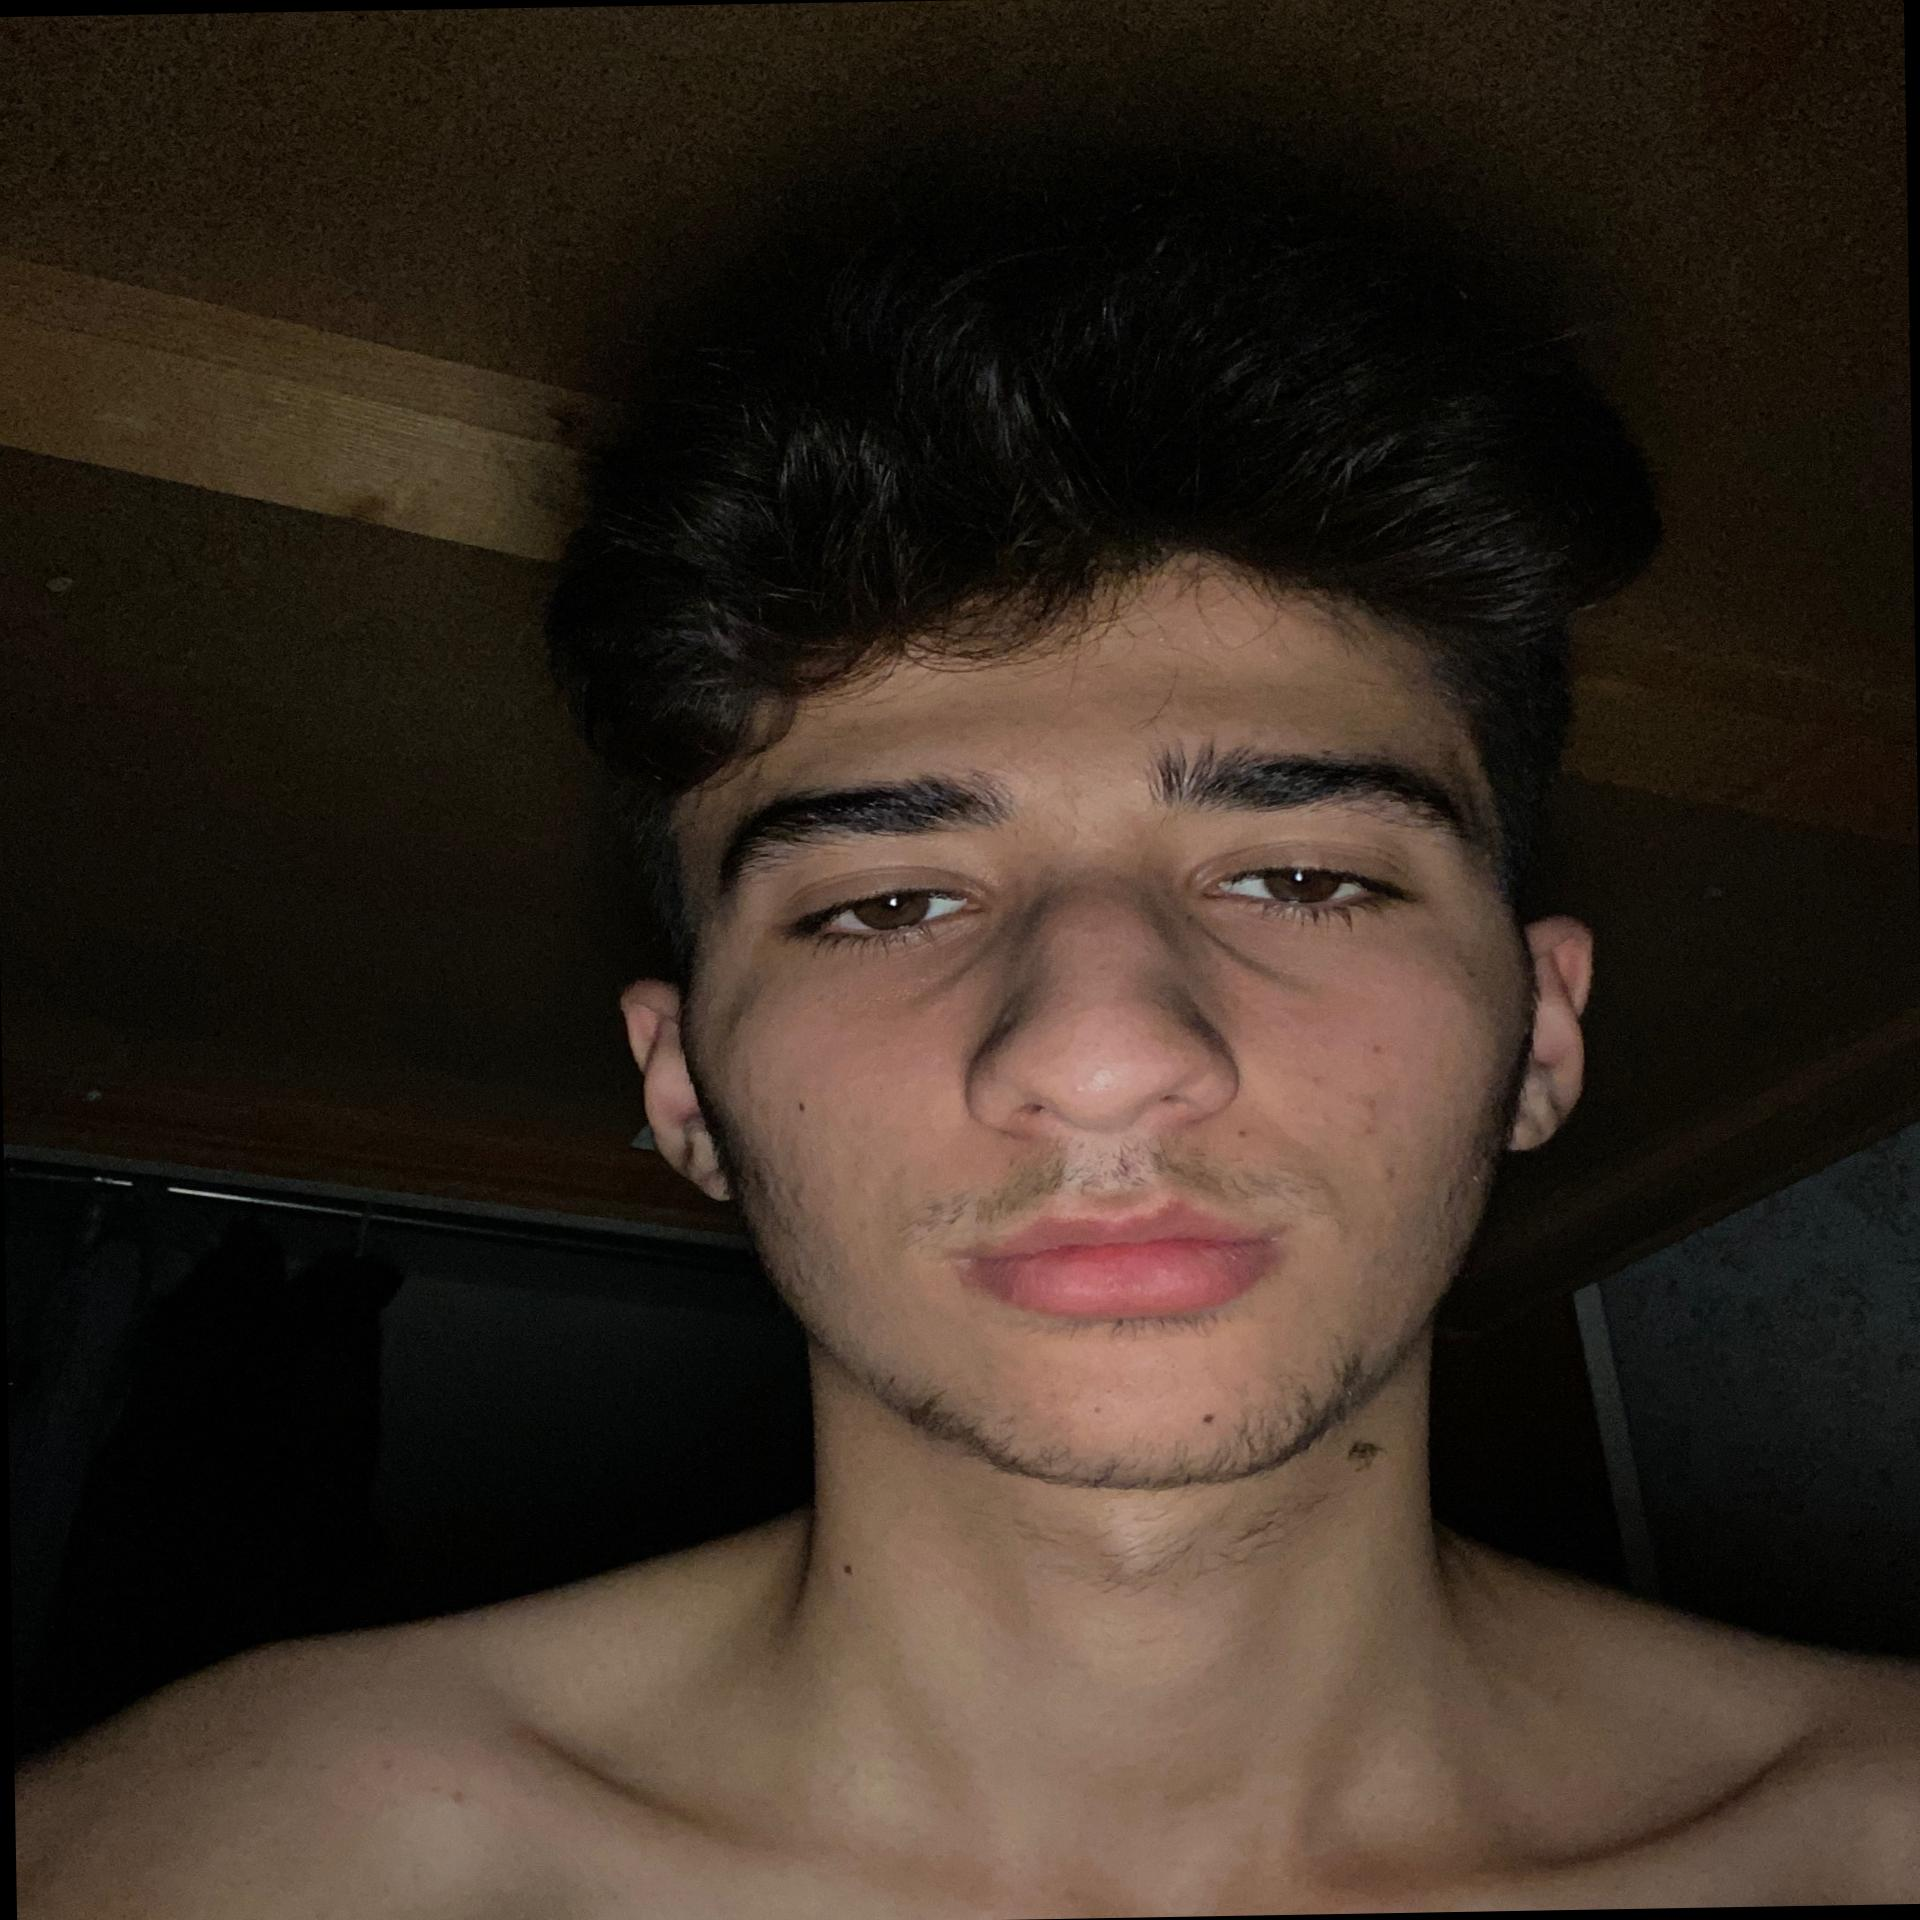Acne: (1354, 1094, 1398, 1125), (782, 1176, 819, 1213), (1340, 1115, 1389, 1141), (1359, 1036, 1396, 1064), (1377, 1160, 1412, 1189), (1299, 1067, 1343, 1087), (1229, 1125, 1273, 1145), (1196, 1405, 1220, 1424)
Dark Circles: (1171, 893, 1482, 988), (751, 918, 1016, 1027)
